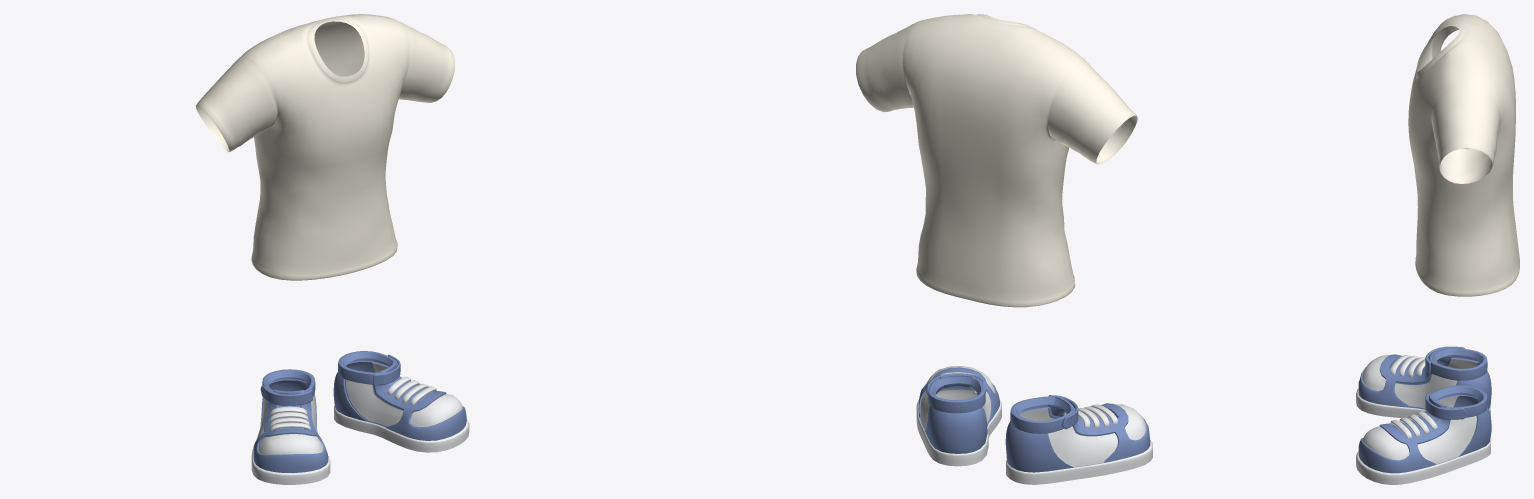
File: lcw-waikiki.glb
3 renders of one model, left to right at view 1: azimuth 30°, elevation 25°; view 2: azimuth 150°, elevation 25°; view 3: azimuth 270°, elevation 25°, orthographic. The views are drawn at different scales.
Parts seen in each view (by area): view 1: tisort_geo, ayakkabi_geo; view 2: tisort_geo, ayakkabi_geo; view 3: tisort_geo, ayakkabi_geo.
Boxes of the visible parts, x1=… form: tisort_geo: x1=196, y1=14, x2=454, y2=280; ayakkabi_geo: x1=251, y1=351, x2=469, y2=484; tisort_geo: x1=856, y1=14, x2=1137, y2=307; ayakkabi_geo: x1=916, y1=366, x2=1152, y2=484; tisort_geo: x1=1408, y1=14, x2=1519, y2=296; ayakkabi_geo: x1=1356, y1=346, x2=1491, y2=484.
Size of the model in its own units: 1.24 by 0.7935 by 0.2916.
Materials: 5 (1 with a texture image).
